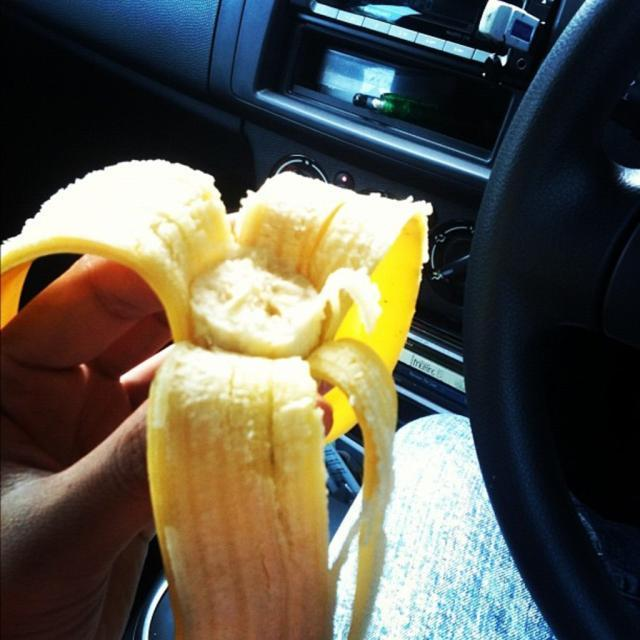Banana: (36, 135, 423, 553)
